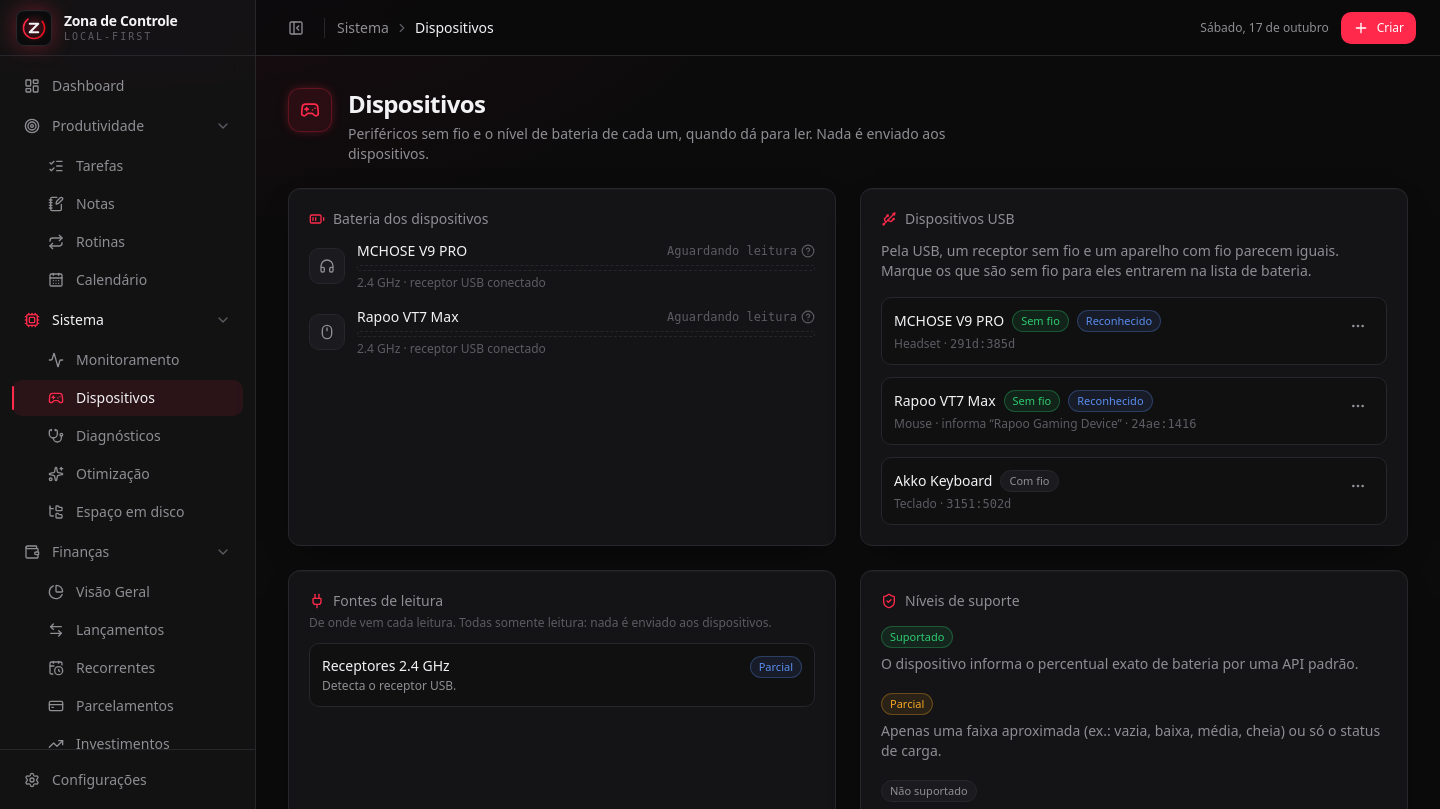
Test: página de Dispositivos › mostra estado vazio sem dispositivos sem fio
Step 1. Click the button named "Ações de “MCHOSE V9 PRO”" → (1358, 326), box left=1342, top=310, right=1374, bottom=342
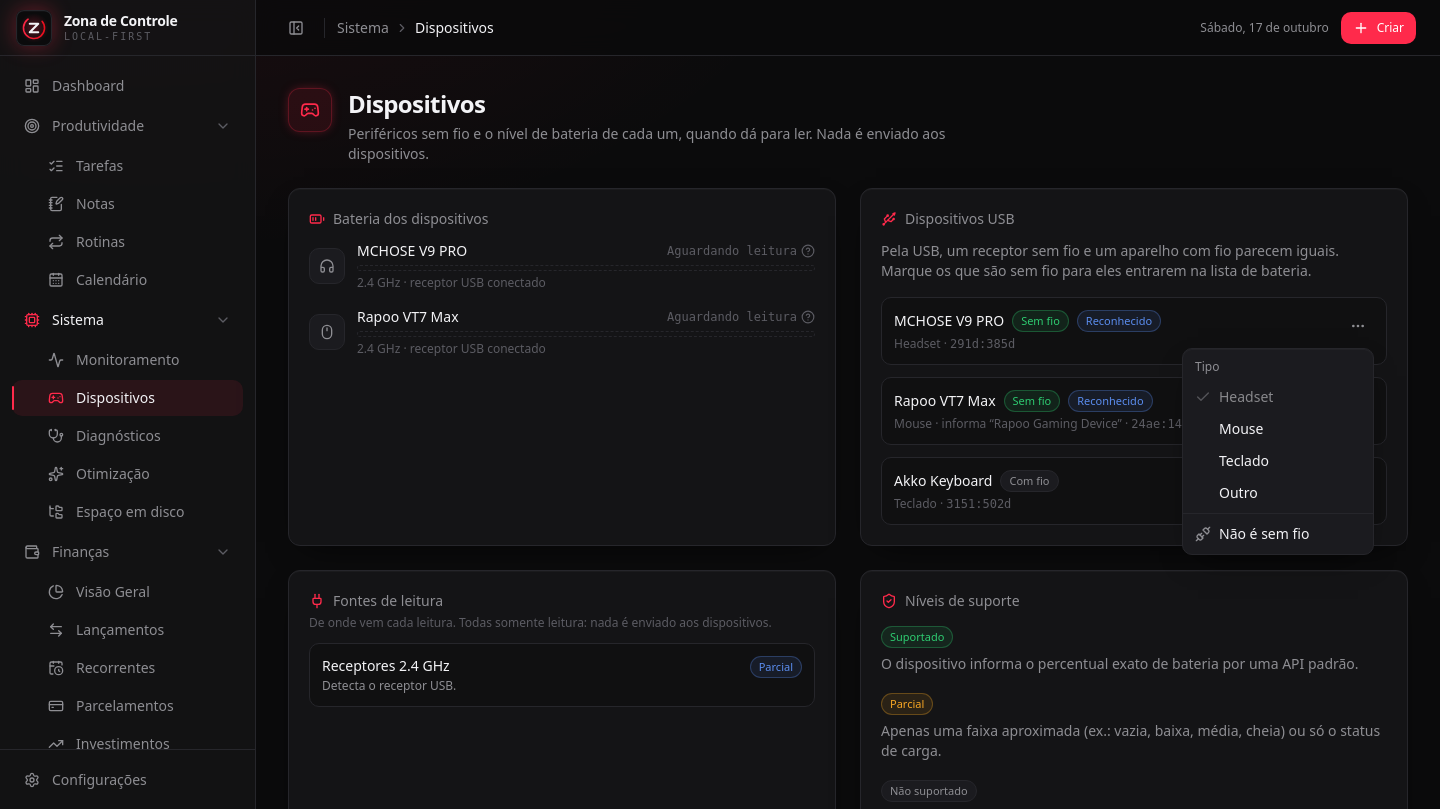
Step 2. Click the menu item "Não é sem fio" → (1252, 534), box left=1195, top=524, right=1309, bottom=543
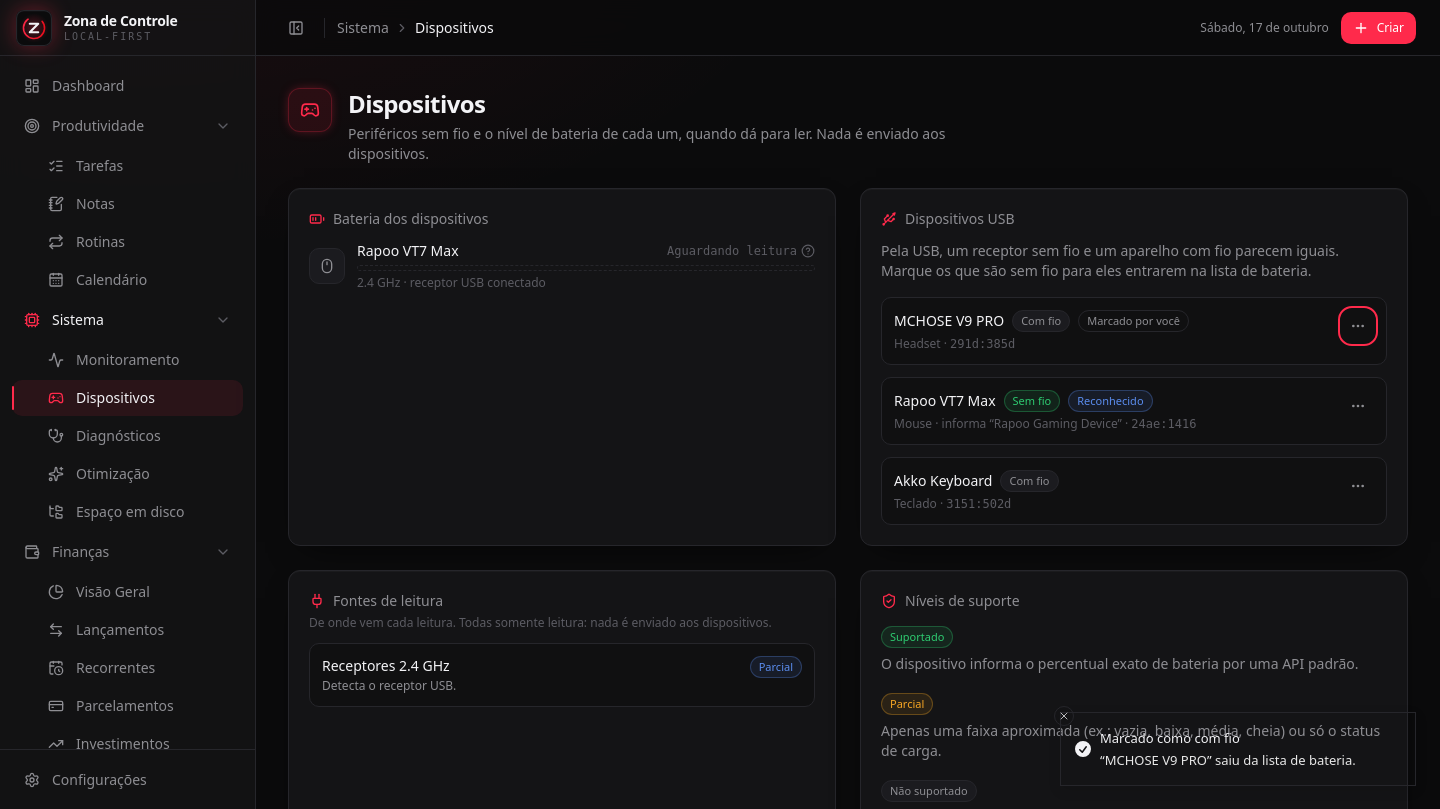
Step 3. Click the button named "Ações de “Rapoo VT7 Max”" → (1358, 406), box left=1342, top=390, right=1374, bottom=422
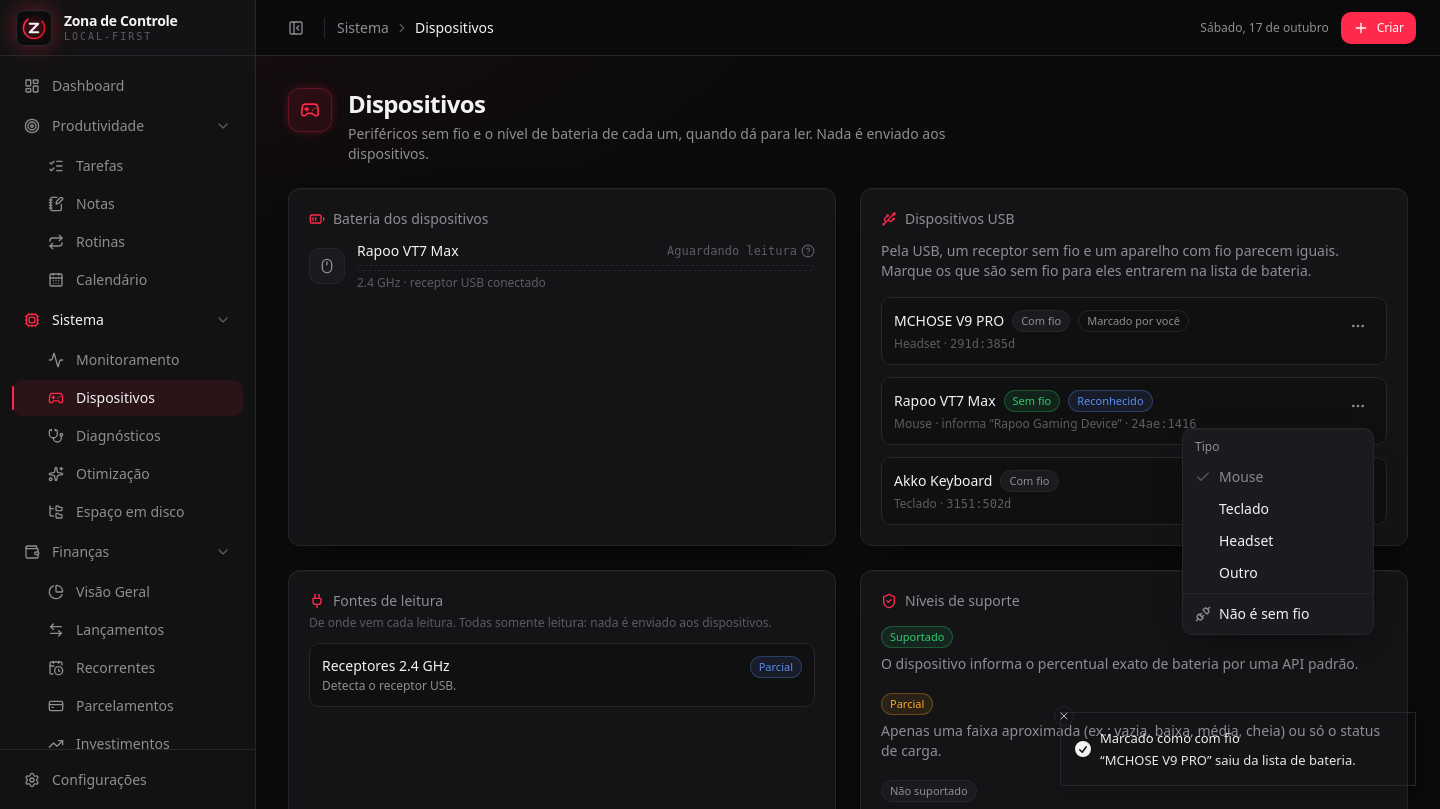
Step 4. Click the menu item "Não é sem fio" → (1252, 614), box left=1195, top=604, right=1309, bottom=623
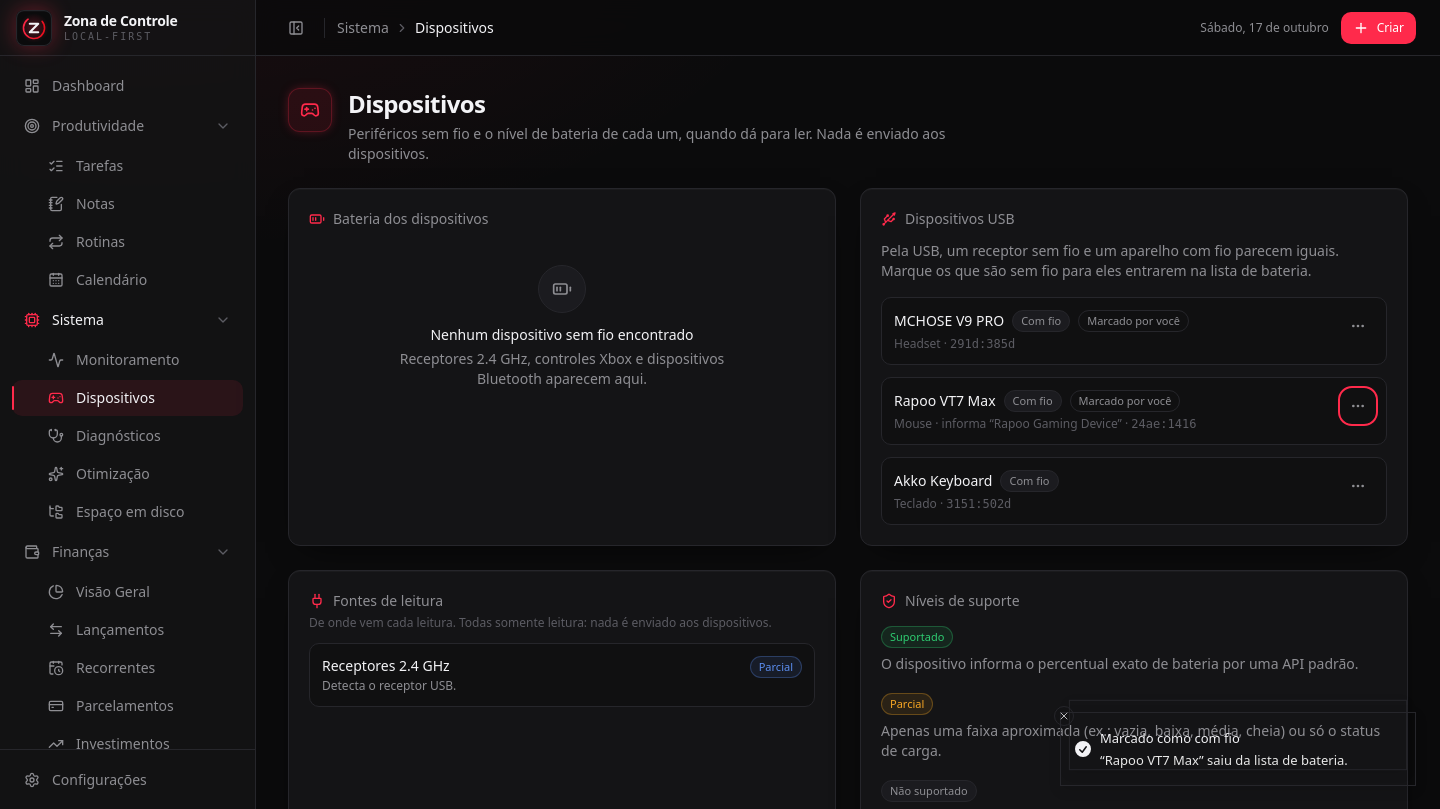
expect the text "Nenhum dispositivo sem fio encontrado" is shown: met, box left=430, top=325, right=694, bottom=344
